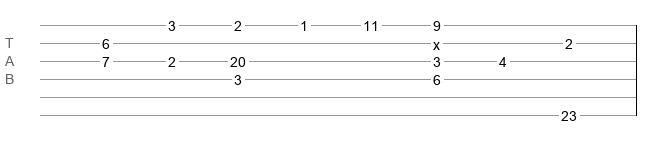1: (300, 18, 308, 28)
11: (363, 18, 379, 28)
2: (168, 54, 176, 64), (234, 18, 242, 28), (565, 36, 573, 46)
20: (230, 54, 246, 64)
23: (561, 108, 577, 118)
3: (168, 18, 176, 28), (234, 72, 242, 82), (433, 54, 441, 64)
4: (499, 54, 507, 64)
6: (102, 36, 110, 46), (433, 72, 441, 82)
7: (102, 54, 110, 64)
9: (433, 18, 441, 28)
x: (433, 37, 440, 45)
